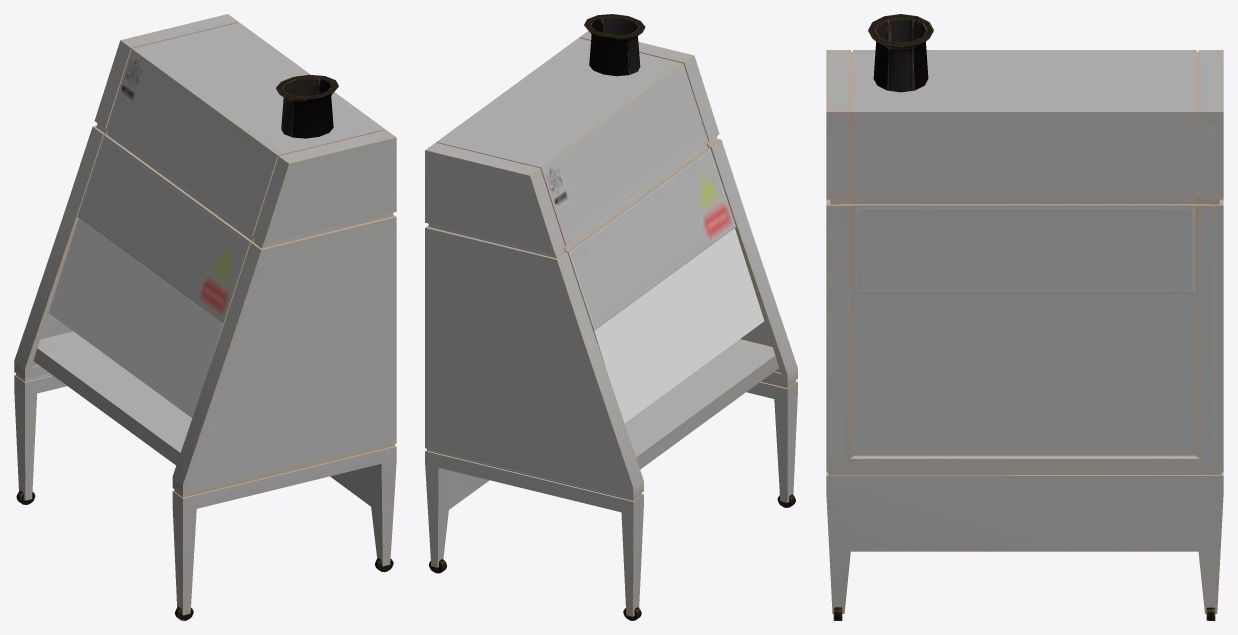
The model's file is PRP_PCRMachine.glb.
The picture shows the model from 3 angles, left to right: view 1: azimuth 30°, elevation 25°; view 2: azimuth 150°, elevation 25°; view 3: azimuth 270°, elevation 25°; orthographic projection. The views are drawn at different scales.
Parts seen in each view (by area): view 1: Lab_Machine_Metal_0, Lab_Machine_Glass_0; view 2: Lab_Machine_Metal_0, Lab_Machine_Glass_0; view 3: Lab_Machine_Metal_0.
Part boxes in pixels (x1,y1,x2,y2): Lab_Machine_Metal_0: [14, 14, 396, 620]; Lab_Machine_Glass_0: [48, 218, 223, 417]; Lab_Machine_Metal_0: [425, 14, 797, 620]; Lab_Machine_Glass_0: [594, 228, 764, 423]; Lab_Machine_Metal_0: [826, 14, 1223, 620].
Bounding box in the file's own units: 0.9897 × 2.09 × 1.34.
2 materials, 1 textured.
